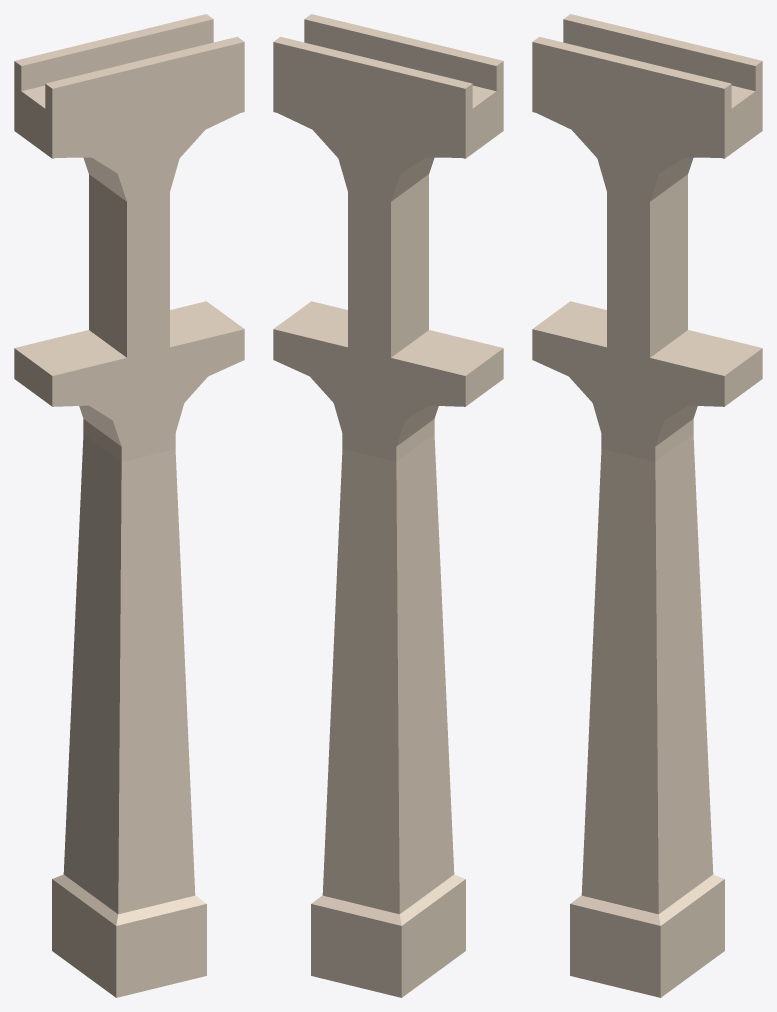
Rendered from Aqueduct.fbx.
3 renders of one model, left to right at view 1: azimuth 30°, elevation 25°; view 2: azimuth 150°, elevation 25°; view 3: azimuth 330°, elevation 25°, orthographic.
Visible parts, largest first — view 1: Aqueduct; view 2: Aqueduct; view 3: Aqueduct.
Boxes of the visible parts, bbox=[...] form: Aqueduct: bbox=[14, 14, 244, 997]; Aqueduct: bbox=[273, 14, 503, 997]; Aqueduct: bbox=[532, 14, 762, 997].
Bounding box in the file's own units: 817 × 3703 × 472.
